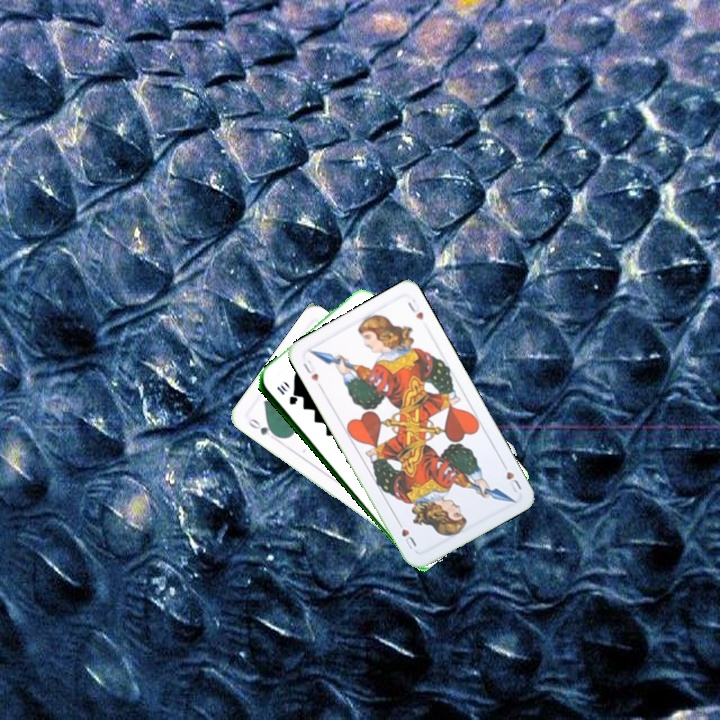G10: (272, 381, 299, 407)
GO: (244, 414, 281, 440)
HU: (498, 458, 525, 495), (299, 356, 321, 384)
